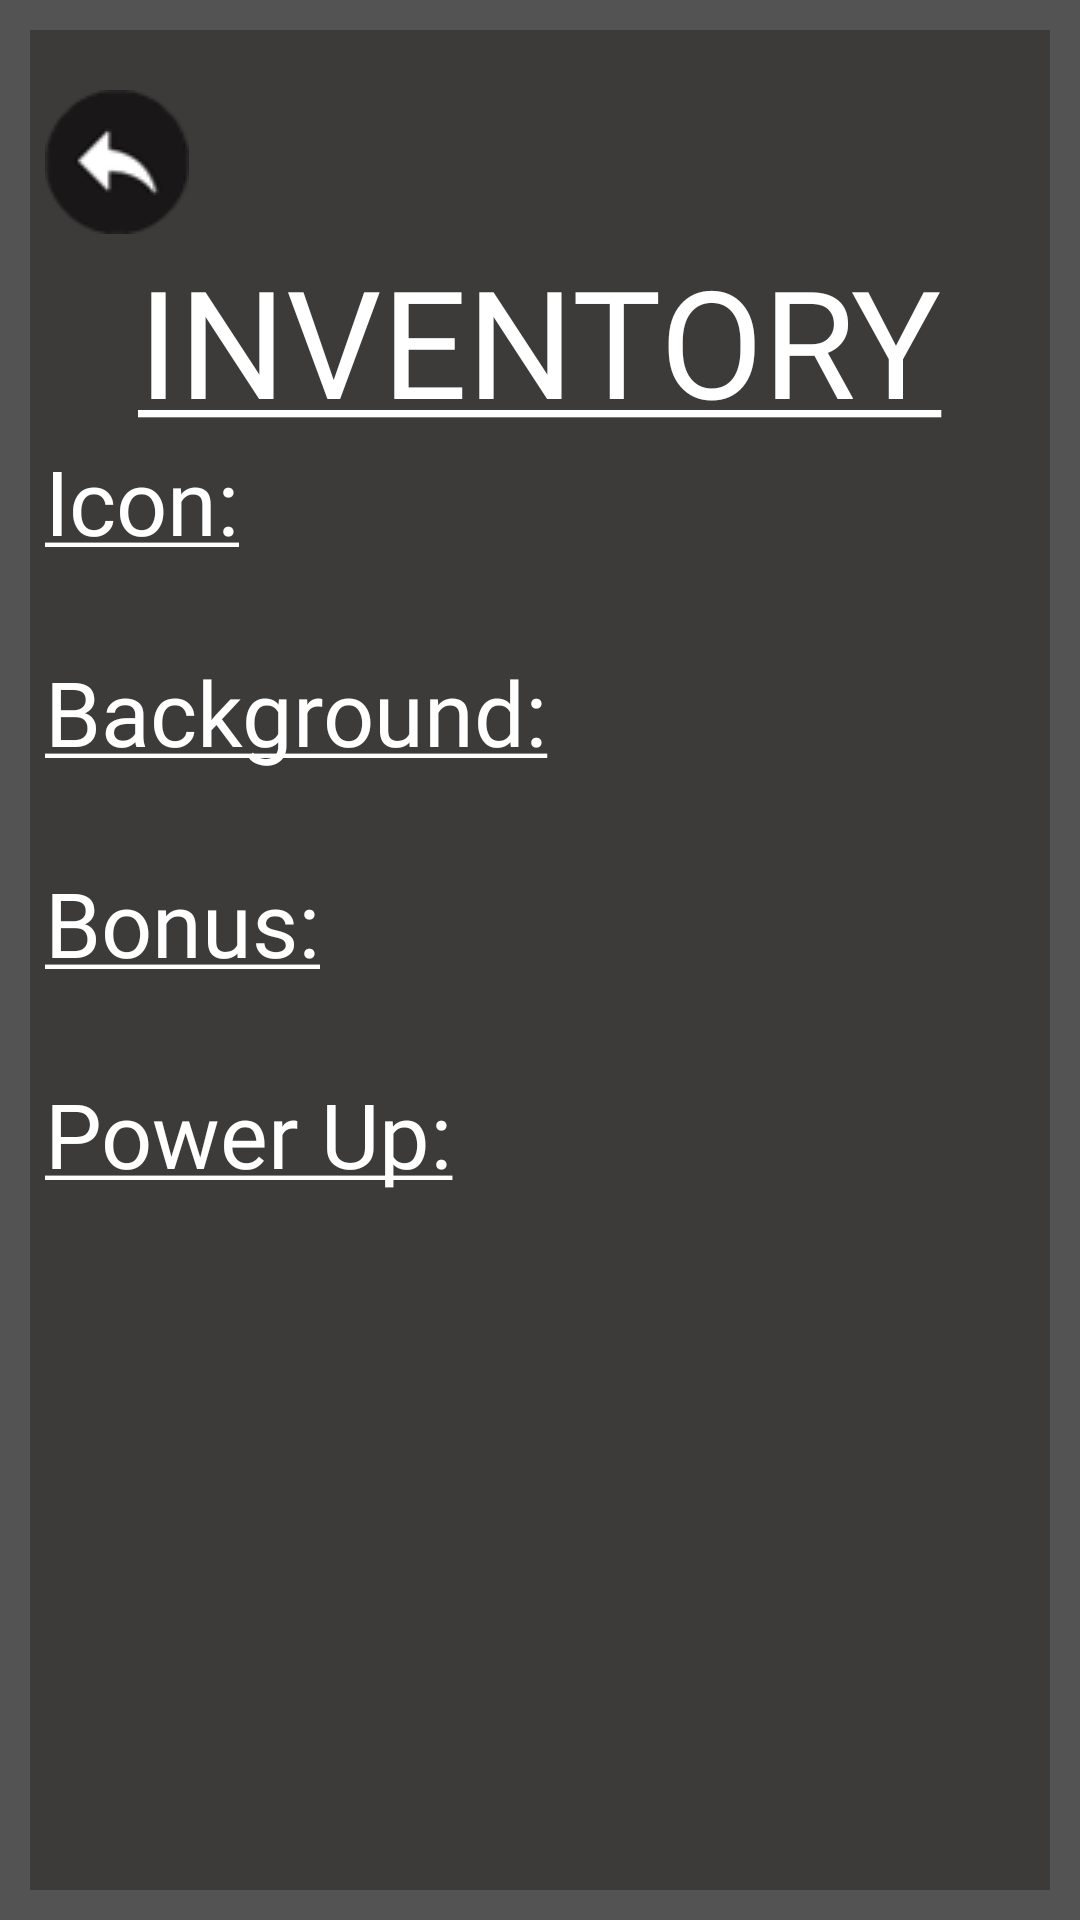

Named icons in this screenshot (1080×1920) and their bounding boxes, (x1, y1, x2, y2):
go back: (47, 90, 189, 234)
